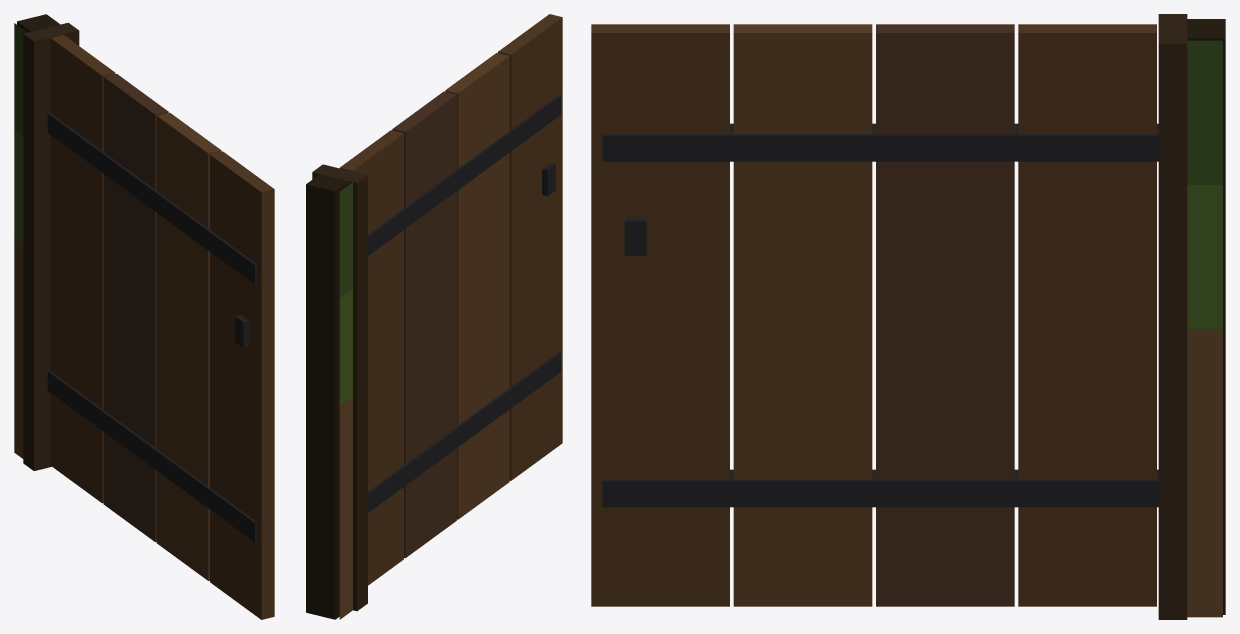
File: wall-mossy-door-shut-low-l.glb
3 renders of one model, left to right at view 1: azimuth 30°, elevation 25°; view 2: azimuth 150°, elevation 25°; view 3: azimuth 270°, elevation 25°, orthographic. The views are drawn at different scales.
Visible parts, largest first — view 1: wall-mossy-door-shut-low-l; view 2: wall-mossy-door-shut-low-l; view 3: wall-mossy-door-shut-low-l.
Boxes of the visible parts, box(x1,y1,x2,y2) form: wall-mossy-door-shut-low-l: box(14, 14, 274, 619); wall-mossy-door-shut-low-l: box(306, 14, 562, 619); wall-mossy-door-shut-low-l: box(591, 14, 1225, 619).
Bounding box in the file's own units: 0.11 × 1 × 0.997.
